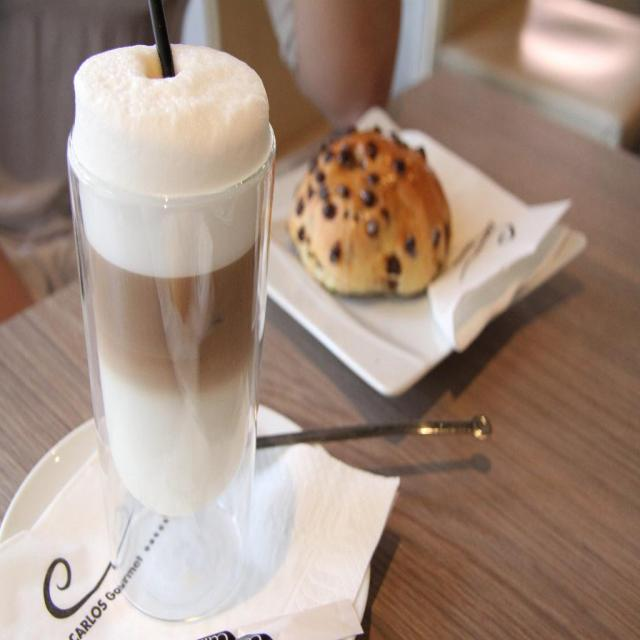Coffee: (66, 54, 288, 534)
